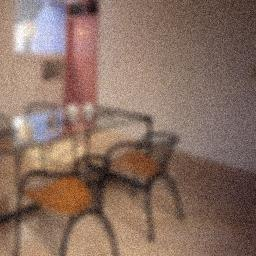Puerta: (68, 19, 99, 103)
